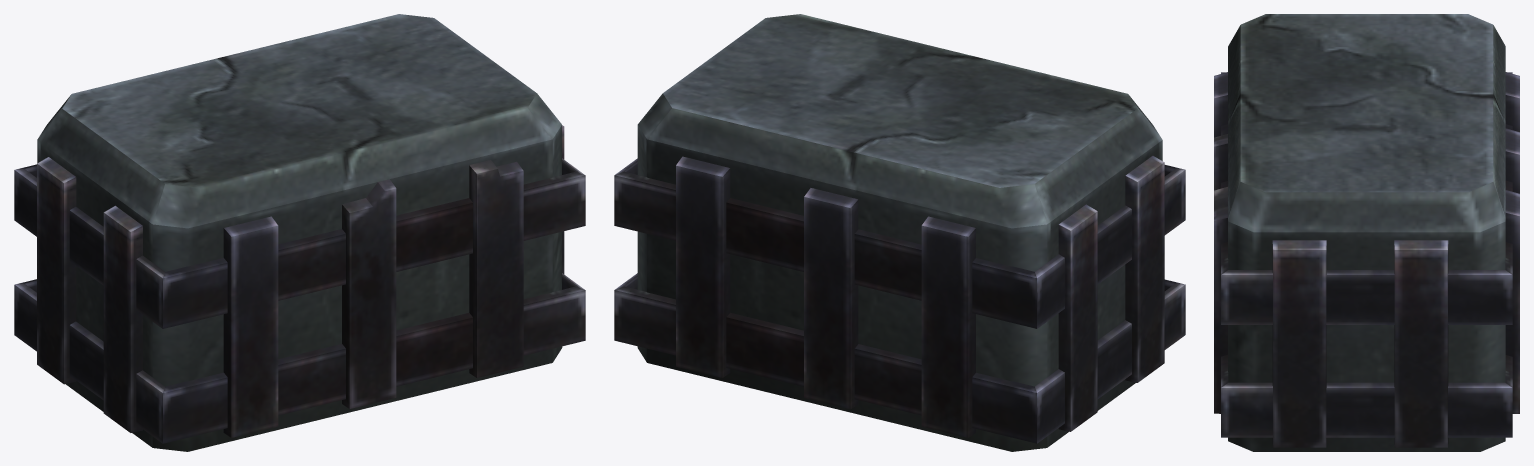
Rendered from B_shikuai001.fbx.
3 renders of one model, left to right at view 1: azimuth 30°, elevation 25°; view 2: azimuth 150°, elevation 25°; view 3: azimuth 270°, elevation 25°, orthographic.
Visible parts, largest first — view 1: B_shikuai001; view 2: B_shikuai001; view 3: B_shikuai001.
Part boxes in pixels (<box>): B_shikuai001: <box>14,14,585,451</box>; B_shikuai001: <box>614,14,1185,451</box>; B_shikuai001: <box>1214,14,1519,451</box>.
Size of the model in its own units: 120 by 67.43 by 74.6.
